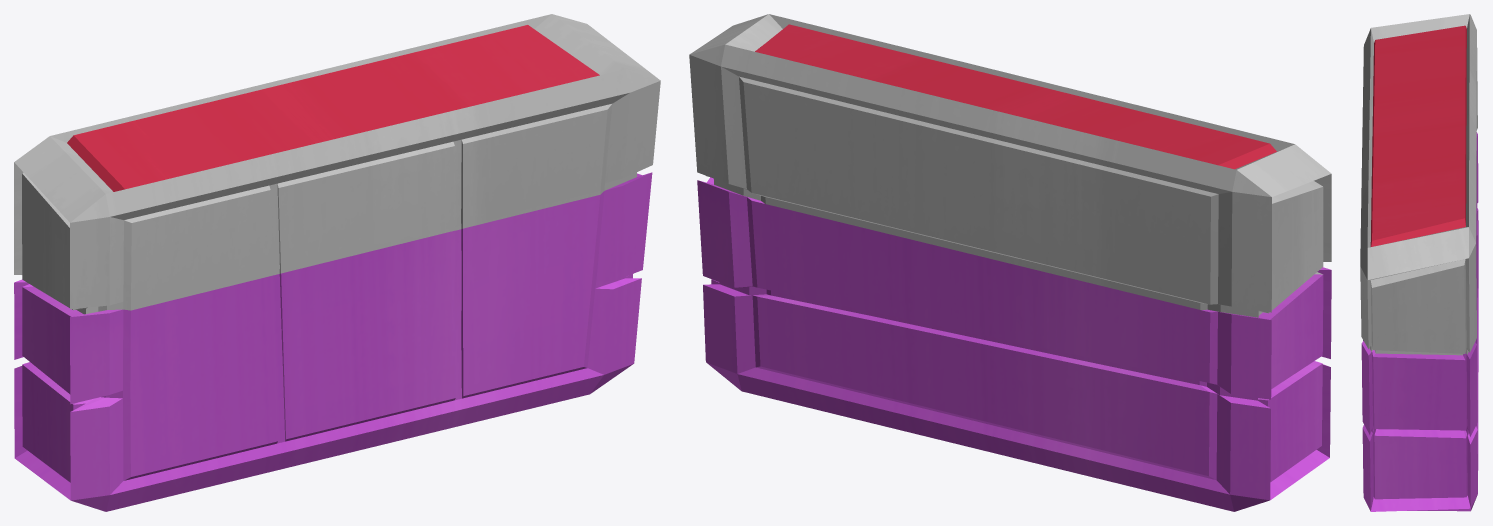
File: Wardrobe.fbx
3 views of the same model, side by side, from view 1: azimuth 30°, elevation 25°; view 2: azimuth 150°, elevation 25°; view 3: azimuth 270°, elevation 25° (orthographic). The views are drawn at different scales.
Visible parts, largest first — view 1: Wardrobe; view 2: Wardrobe; view 3: Wardrobe.
Part boxes in pixels (x1,y1,x2,y2): Wardrobe: (14, 14, 660, 511); Wardrobe: (689, 14, 1331, 511); Wardrobe: (1360, 14, 1478, 511).
Size of the model in its own units: 400 by 217 by 80.13.
